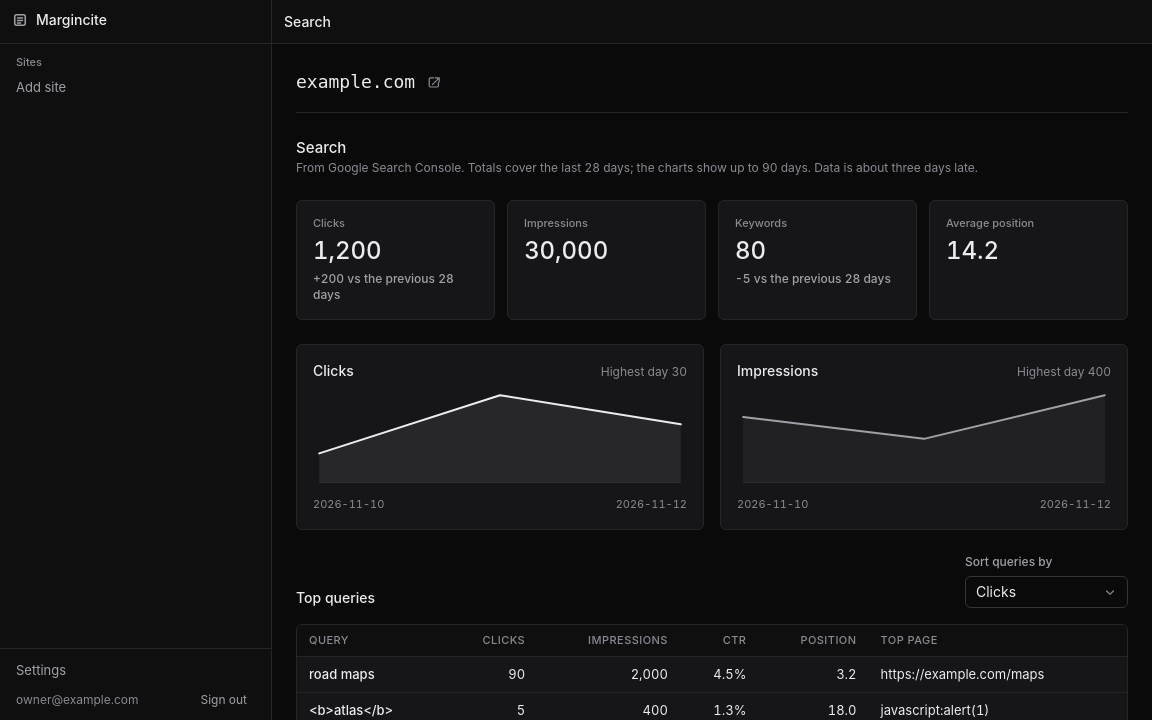
Scenario: queries can be sorted and paged
Select "Position, best first" in the dropdown labelled "Sort queries by" at (1046, 592), box [965, 576, 1128, 608]
(page scrolled)
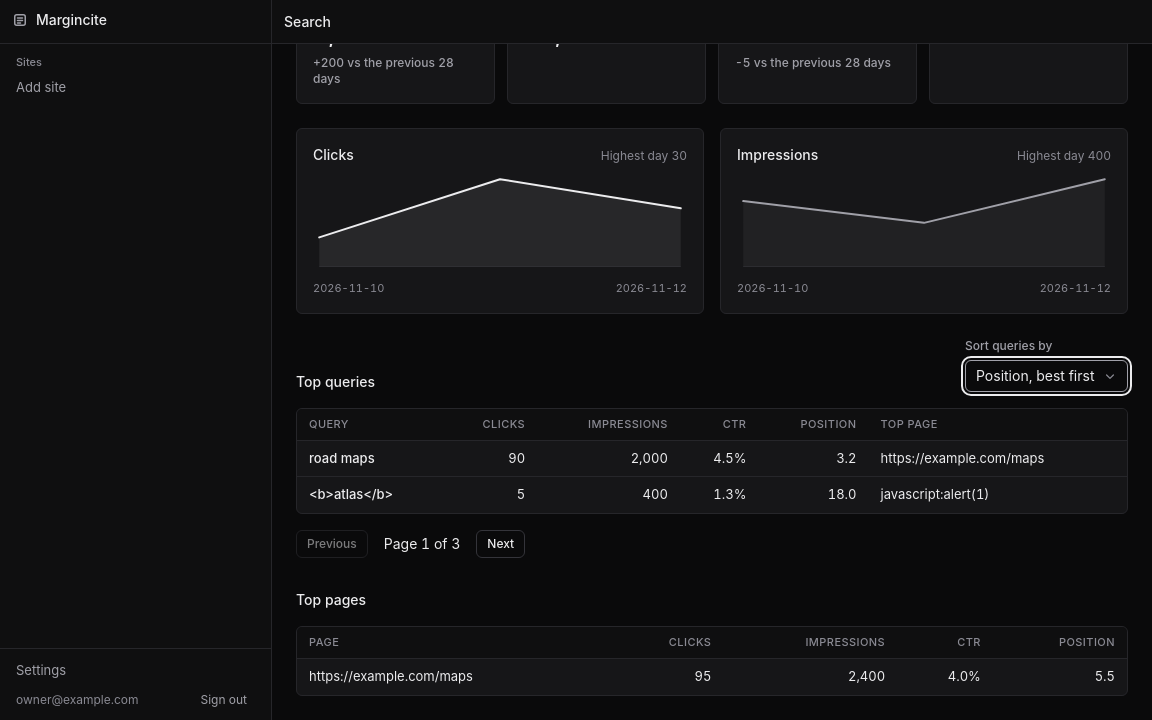
Expected: the table named "Top queries" is shown, [297, 409, 1127, 513]
Click the button with aria-label "Next page".
click(501, 544)  # box [476, 530, 525, 558]
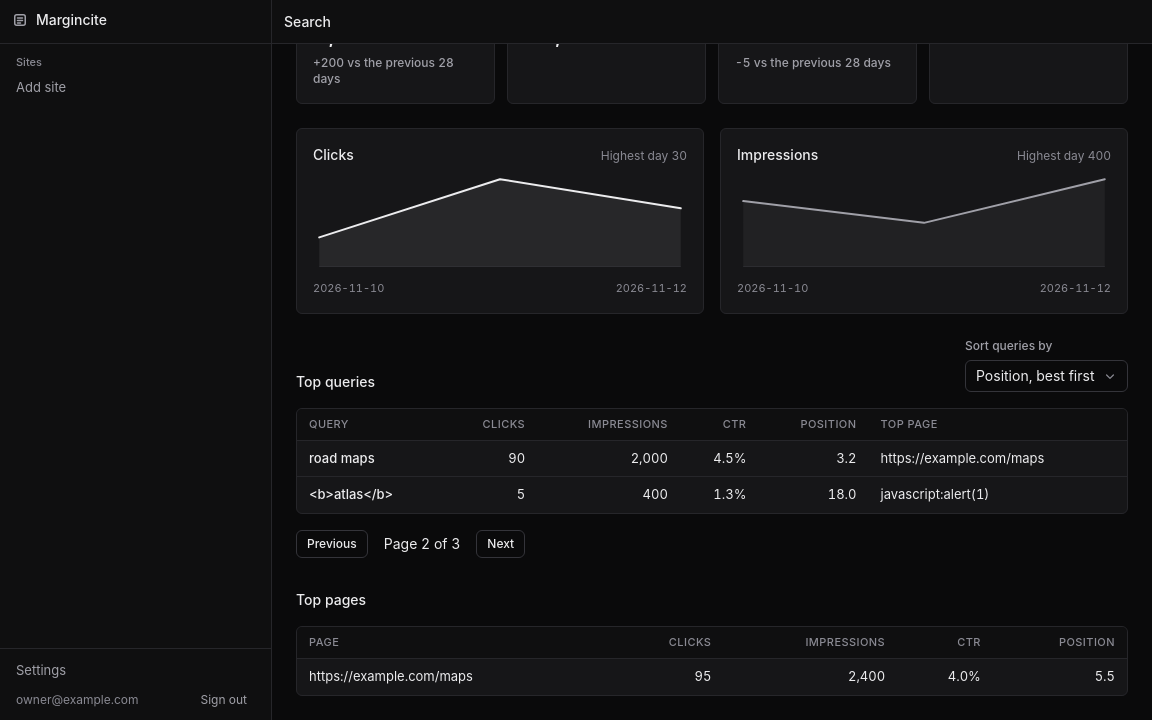
Expected: the text "Page 2 of 3" is shown, [384, 534, 460, 554]
